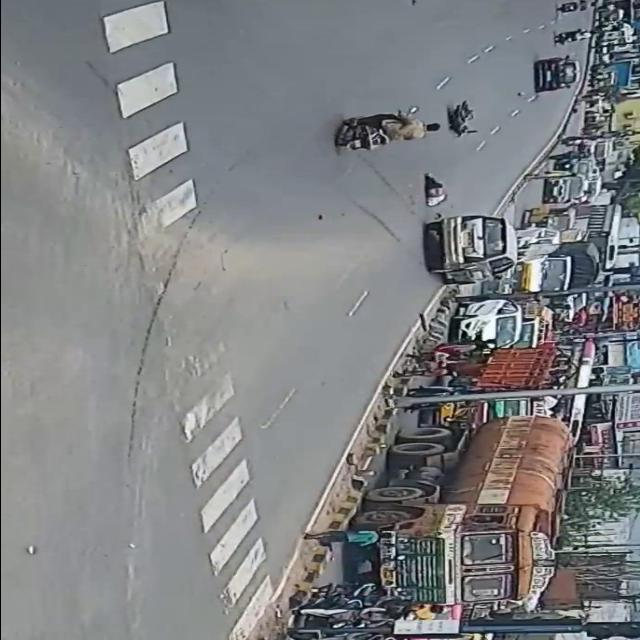accident: (407, 172, 517, 288), (440, 98, 490, 141)
non_accident: (288, 411, 580, 640), (407, 297, 605, 410), (545, 0, 640, 210), (480, 210, 612, 294)
